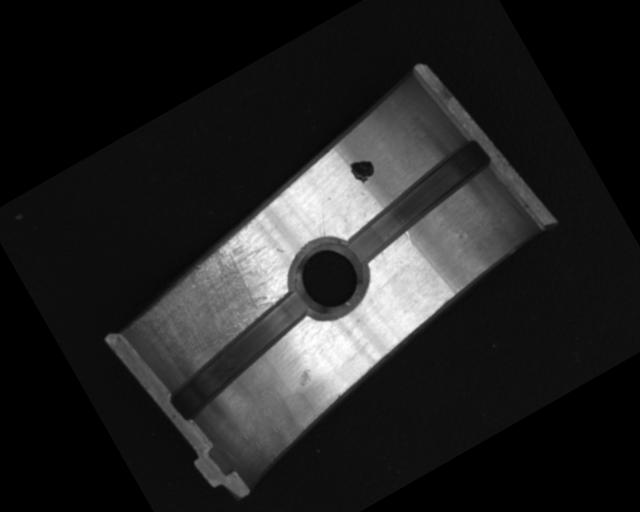blot: (347, 153, 378, 186)
bruise: (293, 366, 316, 389)
gap: (151, 283, 335, 426), (332, 135, 506, 267)
hole: (281, 230, 376, 327)
nick: (389, 229, 438, 293), (308, 201, 338, 239)
scratch: (109, 213, 305, 391)
